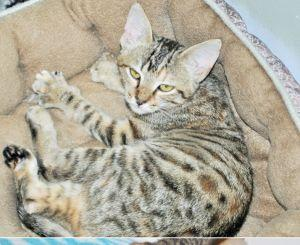bengal: (100, 1, 229, 124)
